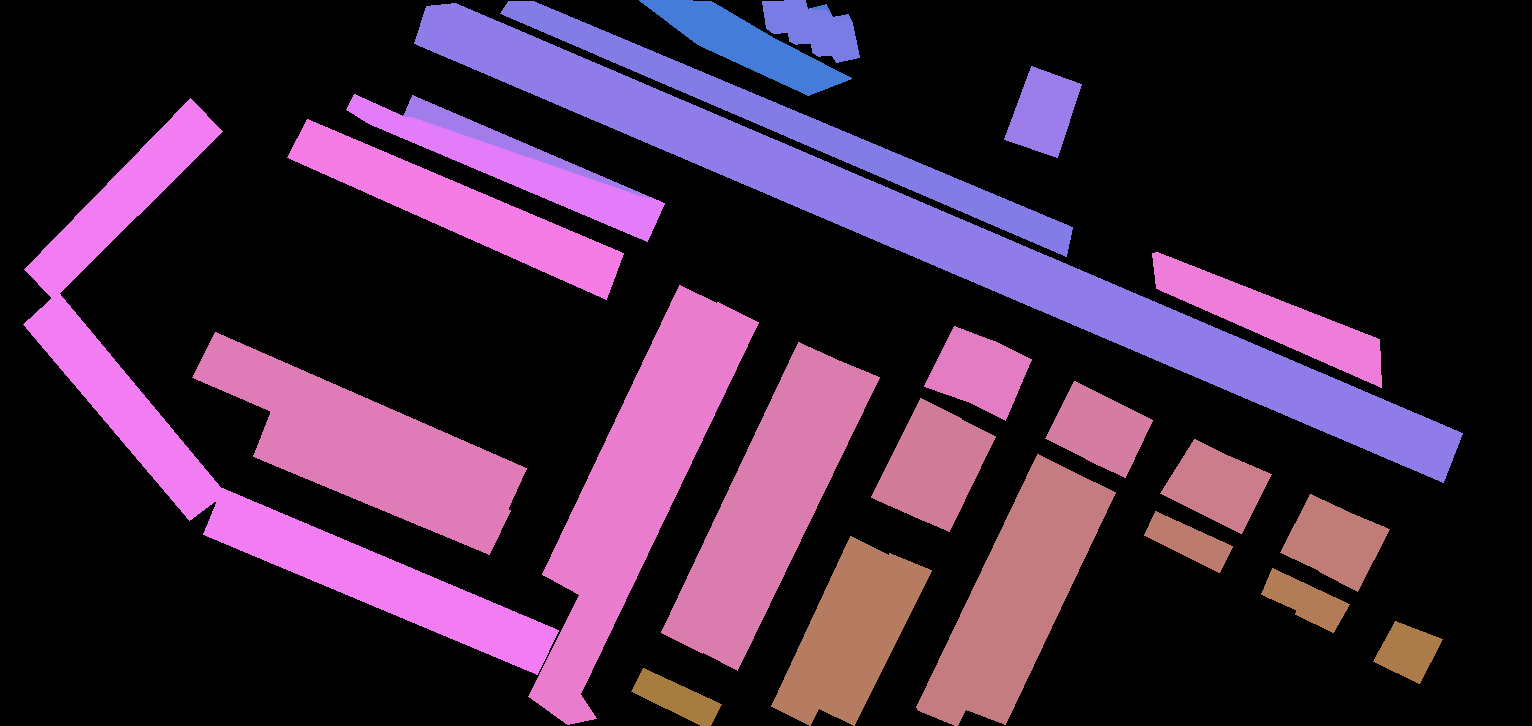parkingspot: (414, 3, 1462, 482), (500, 1, 1072, 256), (528, 302, 758, 724), (203, 488, 558, 674), (287, 119, 623, 299), (192, 332, 526, 512), (542, 285, 721, 596), (661, 342, 840, 653), (701, 359, 879, 670), (346, 94, 664, 241), (23, 292, 225, 520), (916, 454, 1079, 726), (24, 98, 222, 299), (962, 473, 1115, 724), (253, 408, 510, 554), (1152, 252, 1381, 387), (771, 536, 893, 725), (639, 0, 851, 95), (816, 553, 931, 725), (871, 398, 961, 516), (909, 417, 995, 531), (1004, 66, 1081, 157), (762, 0, 859, 62), (1261, 568, 1349, 632), (1319, 511, 1389, 591), (1160, 439, 1233, 514), (1280, 494, 1351, 571), (924, 326, 996, 401), (1045, 381, 1115, 458), (1144, 511, 1232, 572), (1202, 456, 1271, 533), (631, 668, 721, 726), (965, 341, 1031, 420), (1086, 401, 1152, 477), (1373, 621, 1442, 683)
